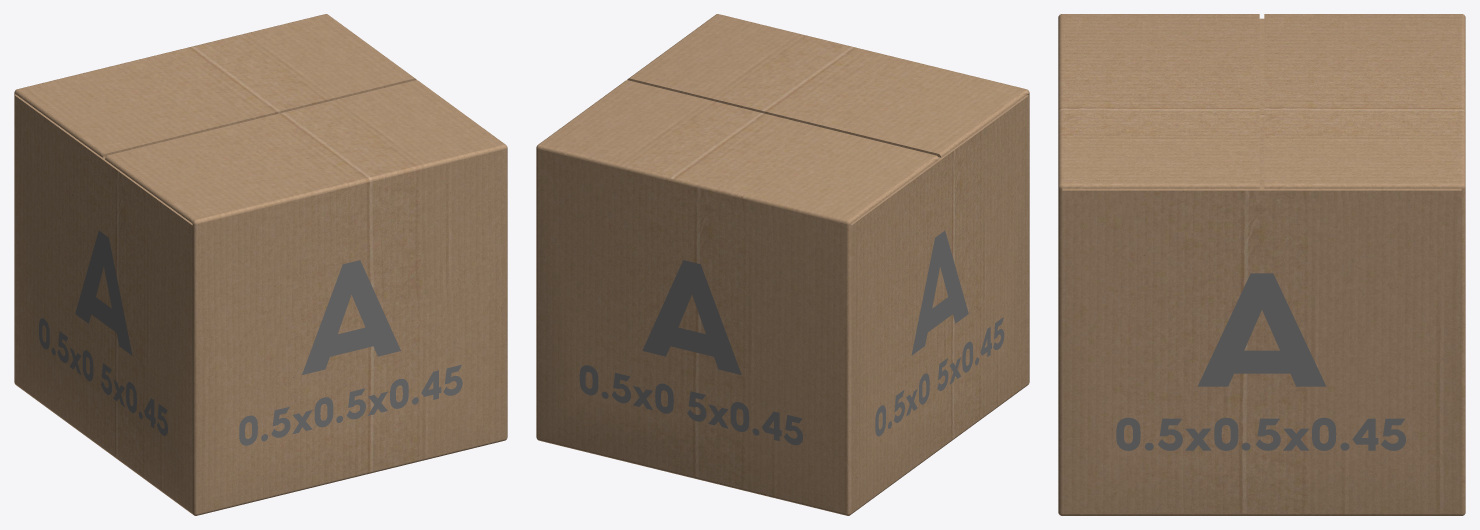
The model's file is THUNG_A.glb.
3 views of the same model, side by side, from view 1: azimuth 30°, elevation 25°; view 2: azimuth 150°, elevation 25°; view 3: azimuth 270°, elevation 25° (orthographic). The views are drawn at different scales.
Parts seen in each view (by area): view 1: Geom3D (×2); view 2: Geom3D (×2); view 3: Geom3D (×2).
Boxes of the visible parts, bbox=[...] form: Geom3D (×2): bbox=[14, 14, 507, 515]; Geom3D (×2): bbox=[536, 14, 1029, 515]; Geom3D (×2): bbox=[1058, 14, 1465, 515].
Bounding box in the file's own units: 0.5 × 0.45 × 0.5.
Materials: 2 (1 with a texture image).
